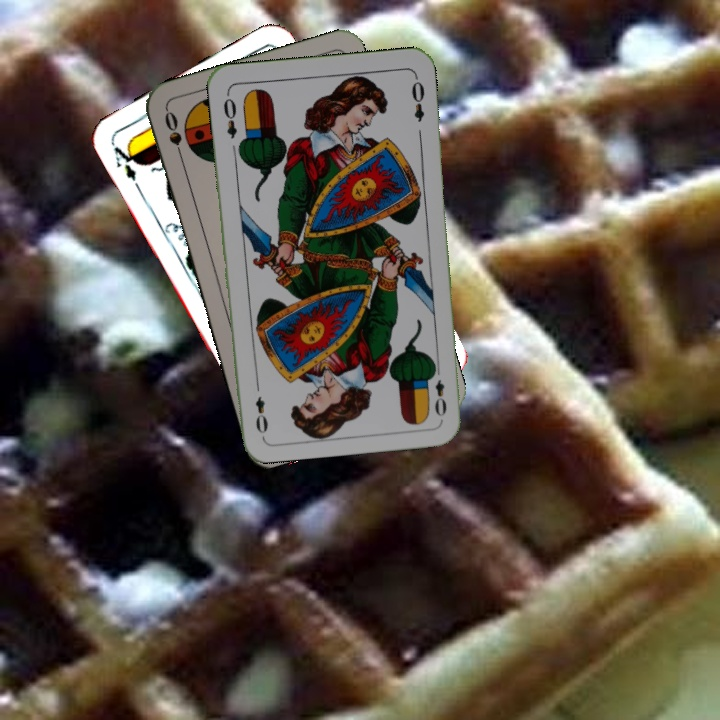EA: (109, 140, 142, 184)
EO: (427, 361, 450, 419), (219, 89, 239, 141)
SO: (160, 107, 187, 165)
